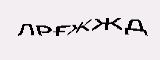А: (64, 22, 77, 48)
С: (111, 20, 132, 48)
Ш: (30, 21, 55, 46)
Щ: (76, 22, 110, 51)
Я: (54, 22, 65, 45)
